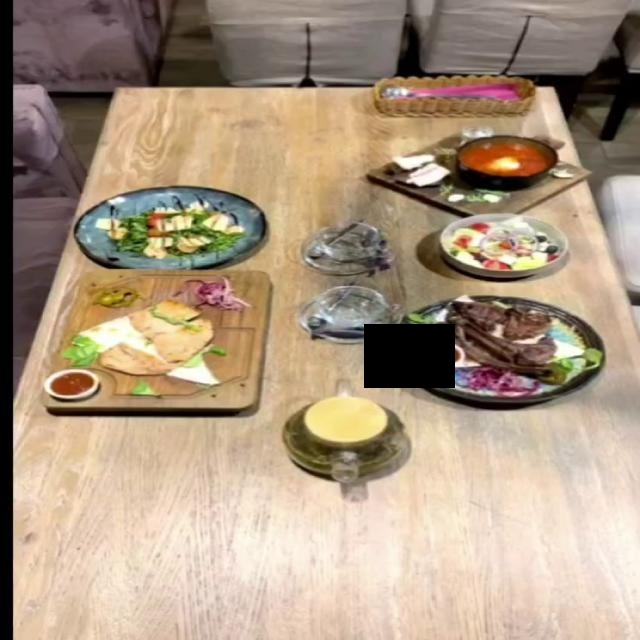meat: (42, 268, 283, 412), (389, 293, 605, 402)
salad: (73, 185, 265, 267), (438, 212, 570, 277)
soup: (387, 134, 566, 205)
tea: (280, 392, 410, 480)
